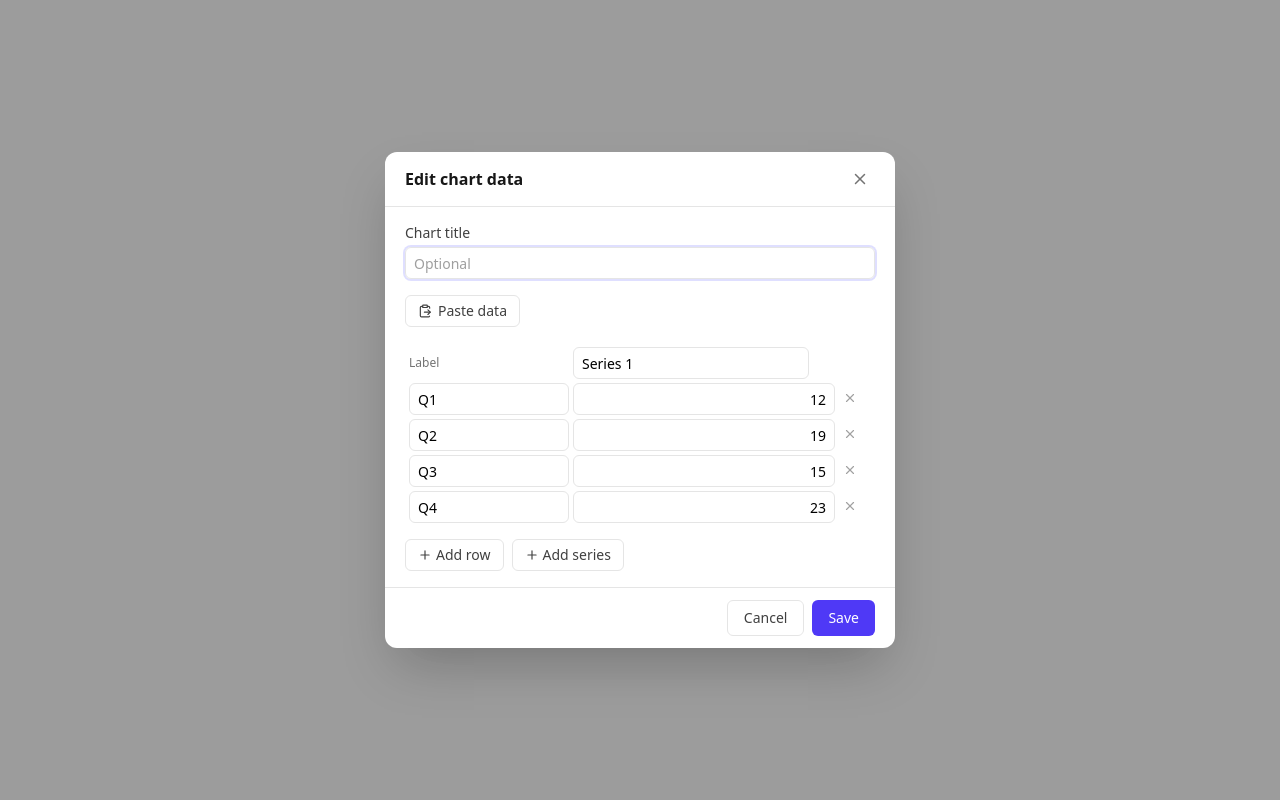
it: ChartDataEditor › blocks saving while any value isn't a number
Step 1. Replace the text in the field named "Series 1, Q1" with "ten" → (704, 399), box [573, 383, 835, 415]
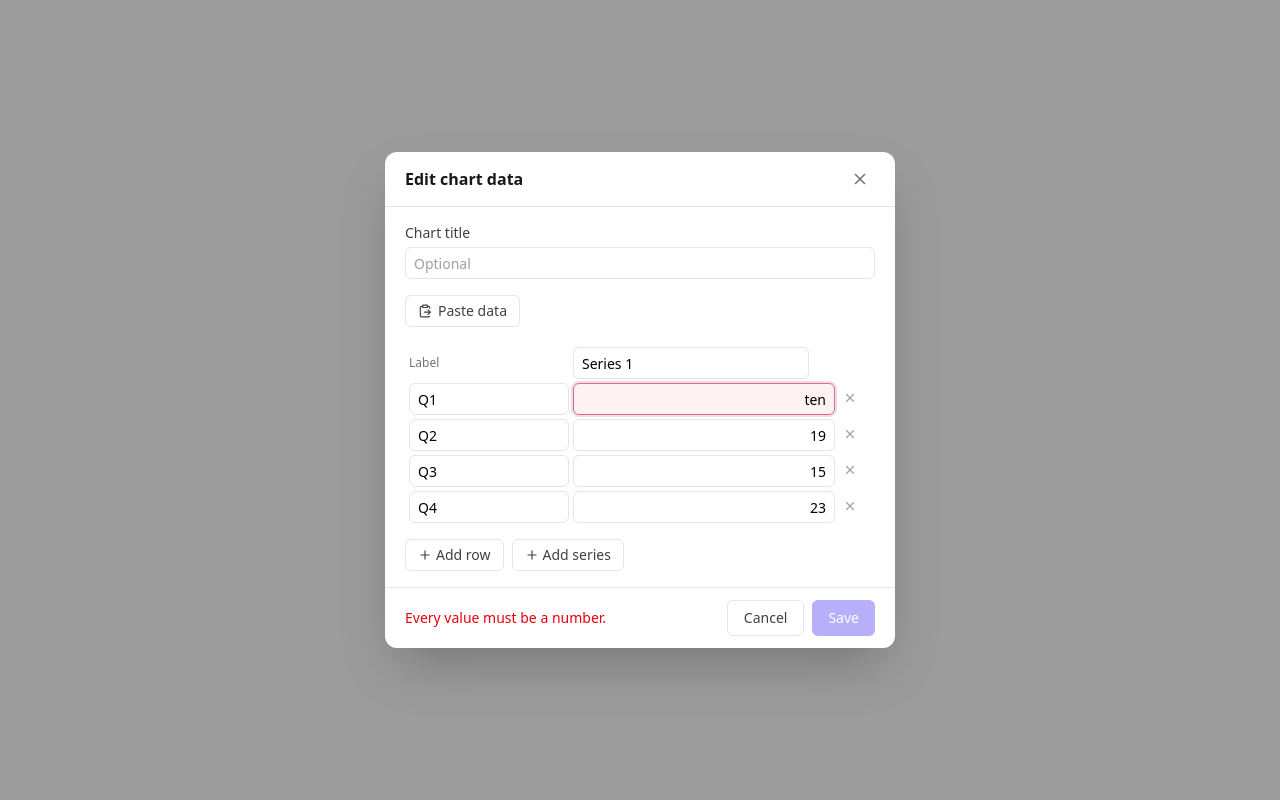
expect the text "Every value must be a number." is shown: met, box [405, 608, 606, 628]
expect the button "Save" is disabled: met
Step 2. Click the button "Save" → (844, 618), box [812, 600, 875, 636]
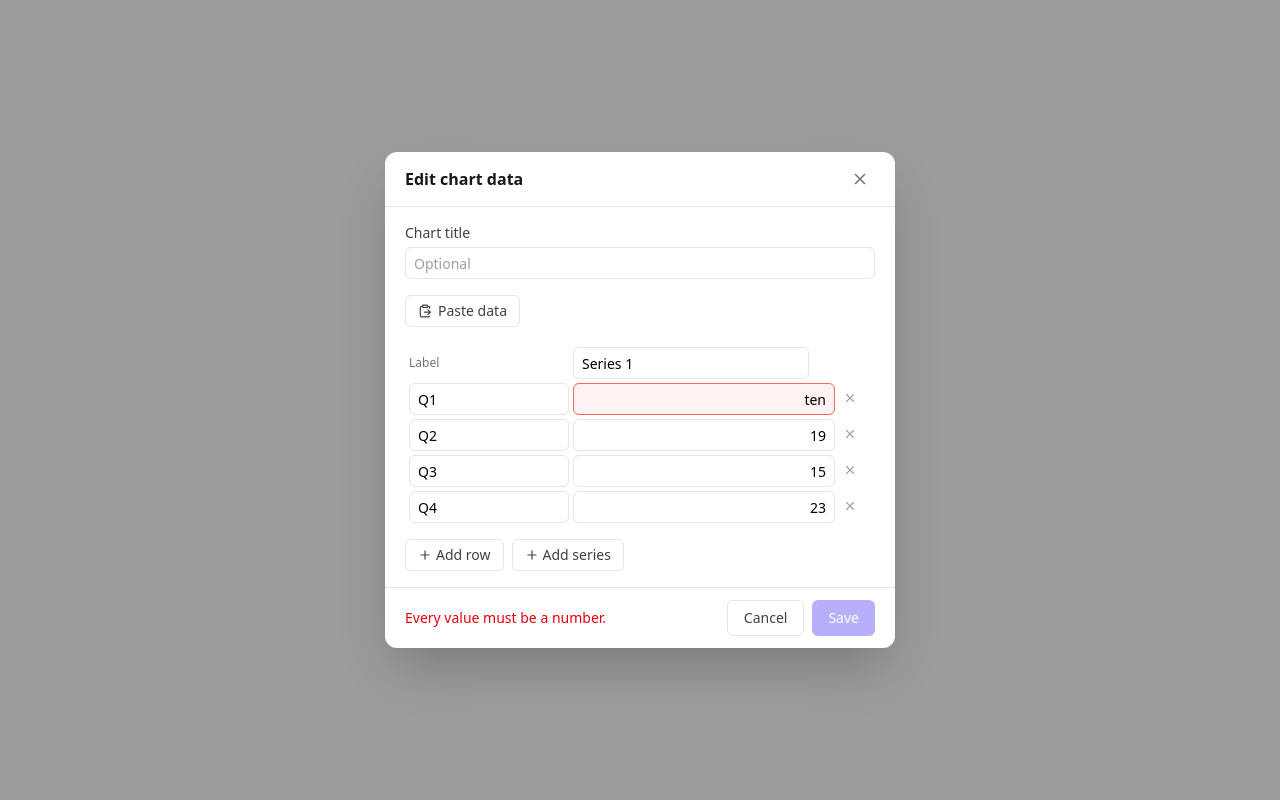
Step 3. Clear the field named "Series 1, Q1" → (704, 399), box [573, 383, 835, 415]
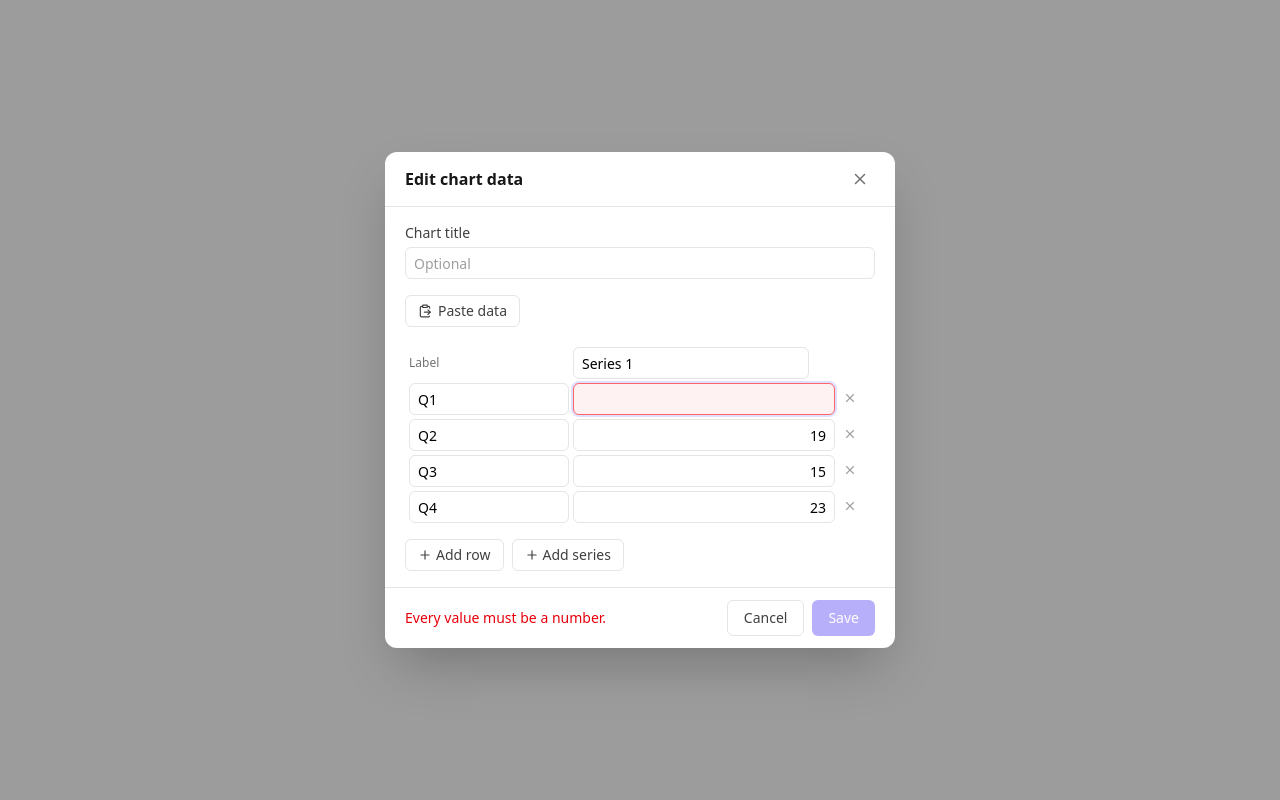
expect the button "Save" is disabled: met, box [812, 600, 875, 636]
Step 4. Type "10" into the field named "Series 1, Q1" → (704, 399), box [573, 383, 835, 415]
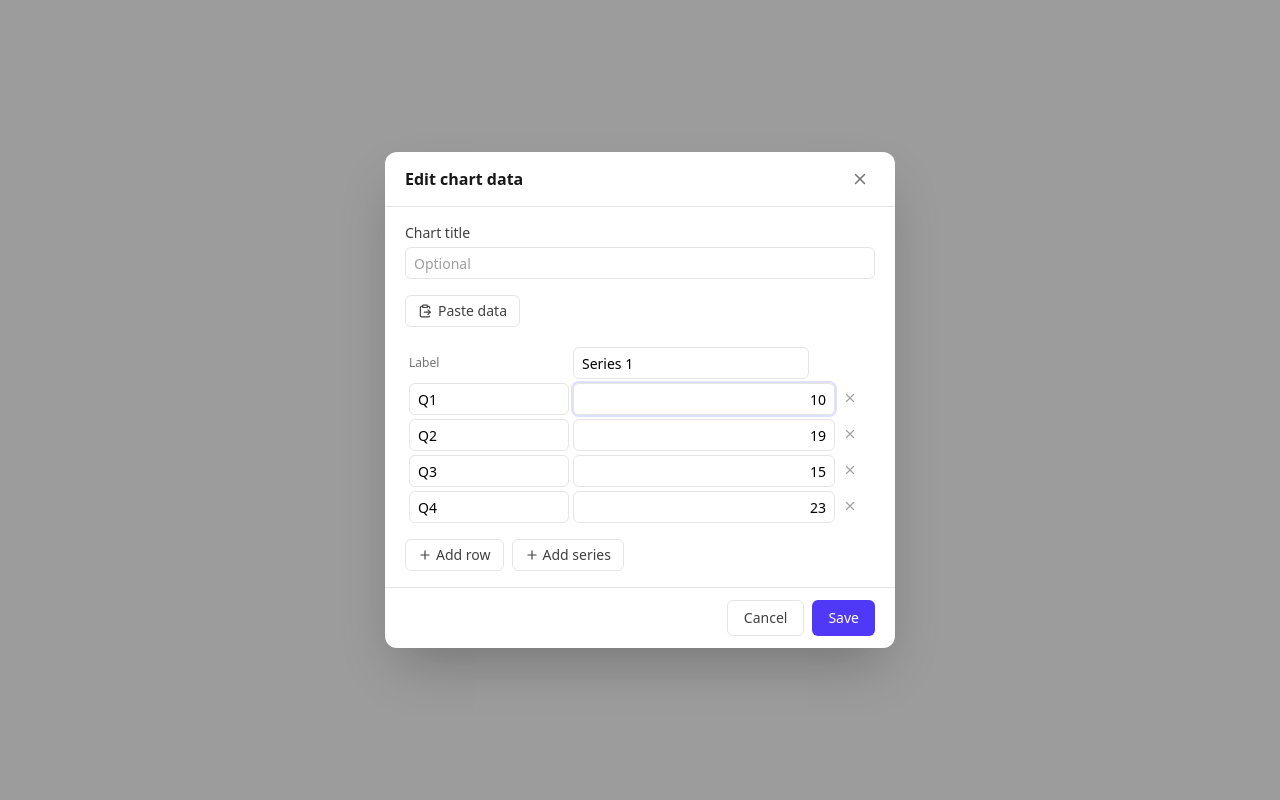
expect the button "Save" is enabled: met, box [812, 600, 875, 636]
expect the text "Every value must be a number." is gone: met
